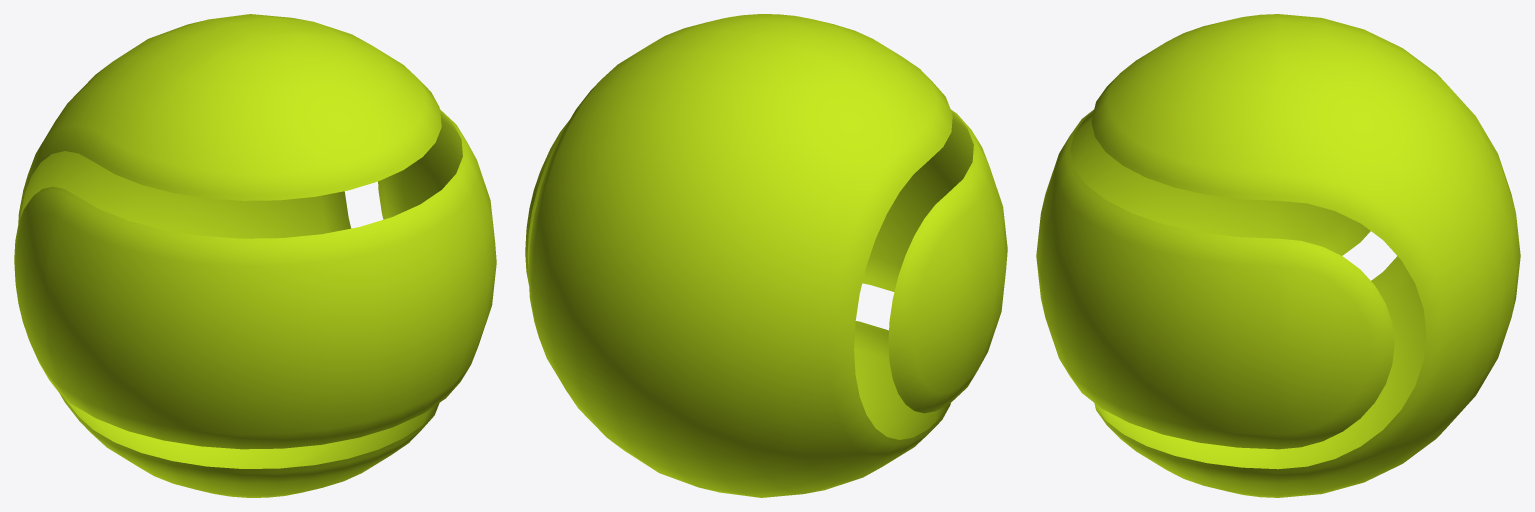
Rendered from tenis_ball.fbx.
3 renders of one model, left to right at view 1: azimuth 30°, elevation 25°; view 2: azimuth 150°, elevation 25°; view 3: azimuth 270°, elevation 25°, orthographic.
Parts seen in each view (by area): view 1: Object_4; view 2: Object_4; view 3: Object_4.
Part boxes in pixels (<box>): Object_4: <box>14,14,496,497</box>; Object_4: <box>525,14,1007,497</box>; Object_4: <box>1036,14,1520,497</box>.
Size of the model in its own units: 200 by 200 by 200.
